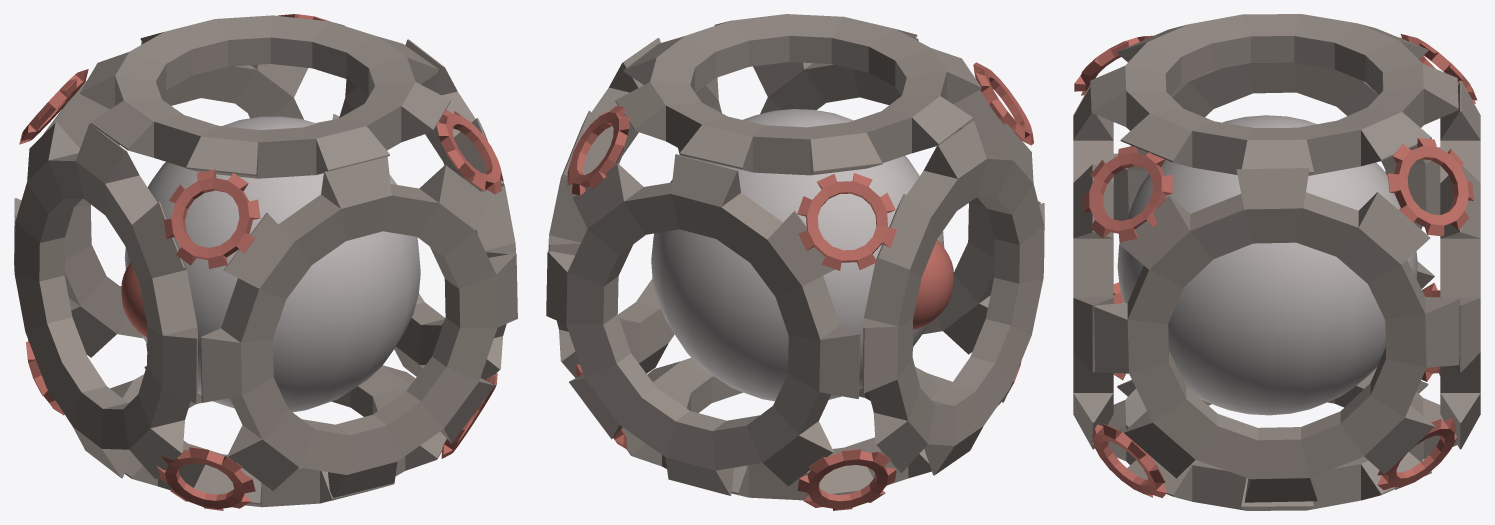
Rendered from Test famili.fbx.
The picture shows the model from 3 angles, left to right: view 1: azimuth 30°, elevation 25°; view 2: azimuth 150°, elevation 25°; view 3: azimuth 270°, elevation 25°; orthographic projection.
Parts seen in each view (by area): view 1: pCylinder1, pCylinder5, pCylinder4, pSphere1, pCylinder3, pCylinder2, pCylinder6, pCylinder11, pCylinder7, pCylinder12, pCylinder14, pSphere2 (+2 smaller); view 2: pCylinder3, pCylinder5, pCylinder4, pSphere1, pCylinder1, pCylinder6, pCylinder2, pCylinder14, pCylinder8, pCylinder13, pSphere2, pCylinder11; view 3: pCylinder6, pSphere1, pCylinder4, pCylinder3, pCylinder1, pCylinder5, pCylinder2, pCylinder13, pCylinder12, pCylinder10, pCylinder9, pCylinder11 (+1 smaller).
Boxes of the visible parts, x1,y1,x2,y2 form: pCylinder1: (200, 156, 517, 500); pCylinder5: (14, 122, 198, 479); pCylinder4: (80, 15, 450, 178); pSphere1: (124, 116, 420, 412); pCylinder3: (42, 41, 329, 357); pCylinder2: (110, 365, 446, 507); pCylinder6: (332, 39, 515, 380); pCylinder11: (164, 169, 260, 268); pCylinder7: (157, 447, 255, 510); pCylinder12: (436, 109, 503, 194); pCylinder14: (19, 69, 88, 144); pSphere2: (121, 262, 147, 337); pCylinder3: (546, 154, 860, 495); pCylinder5: (862, 121, 1044, 475); pCylinder4: (615, 14, 981, 175); pSphere1: (651, 109, 944, 401); pCylinder1: (753, 38, 1040, 354); pCylinder6: (548, 38, 721, 378); pCylinder2: (622, 357, 952, 500); pCylinder14: (797, 173, 896, 270); pCylinder8: (797, 449, 896, 510); pCylinder13: (567, 106, 629, 195); pSphere2: (913, 239, 953, 329); pCylinder11: (973, 62, 1033, 145); pCylinder6: (1093, 168, 1459, 502); pSphere1: (1117, 115, 1417, 415); pCylinder4: (1090, 14, 1458, 175); pCylinder3: (1440, 80, 1480, 449); pCylinder1: (1073, 85, 1113, 449); pCylinder5: (1113, 62, 1440, 288); pCylinder2: (1108, 368, 1457, 510); pCylinder13: (1387, 138, 1473, 236); pCylinder12: (1083, 146, 1172, 241); pCylinder10: (1091, 423, 1166, 498); pCylinder9: (1377, 418, 1456, 489); pCylinder11: (1074, 35, 1153, 95).
Bounding box in the file's own units: 2.73 × 2.71 × 2.71.
